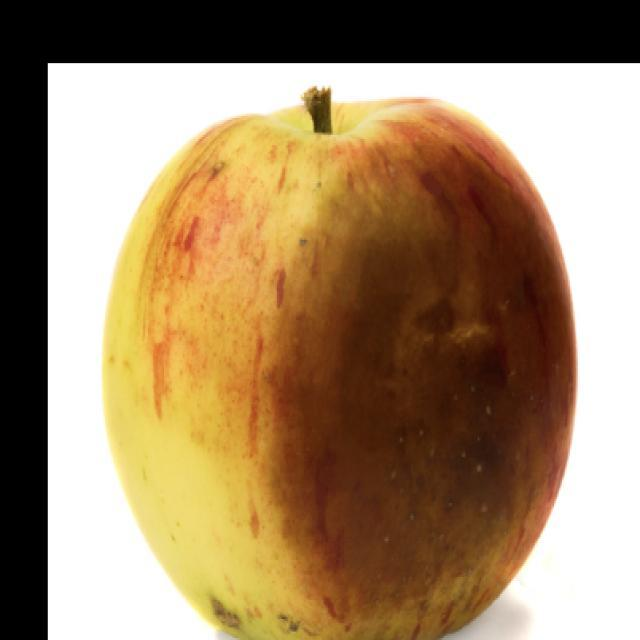Rotten: (112, 90, 584, 640)
